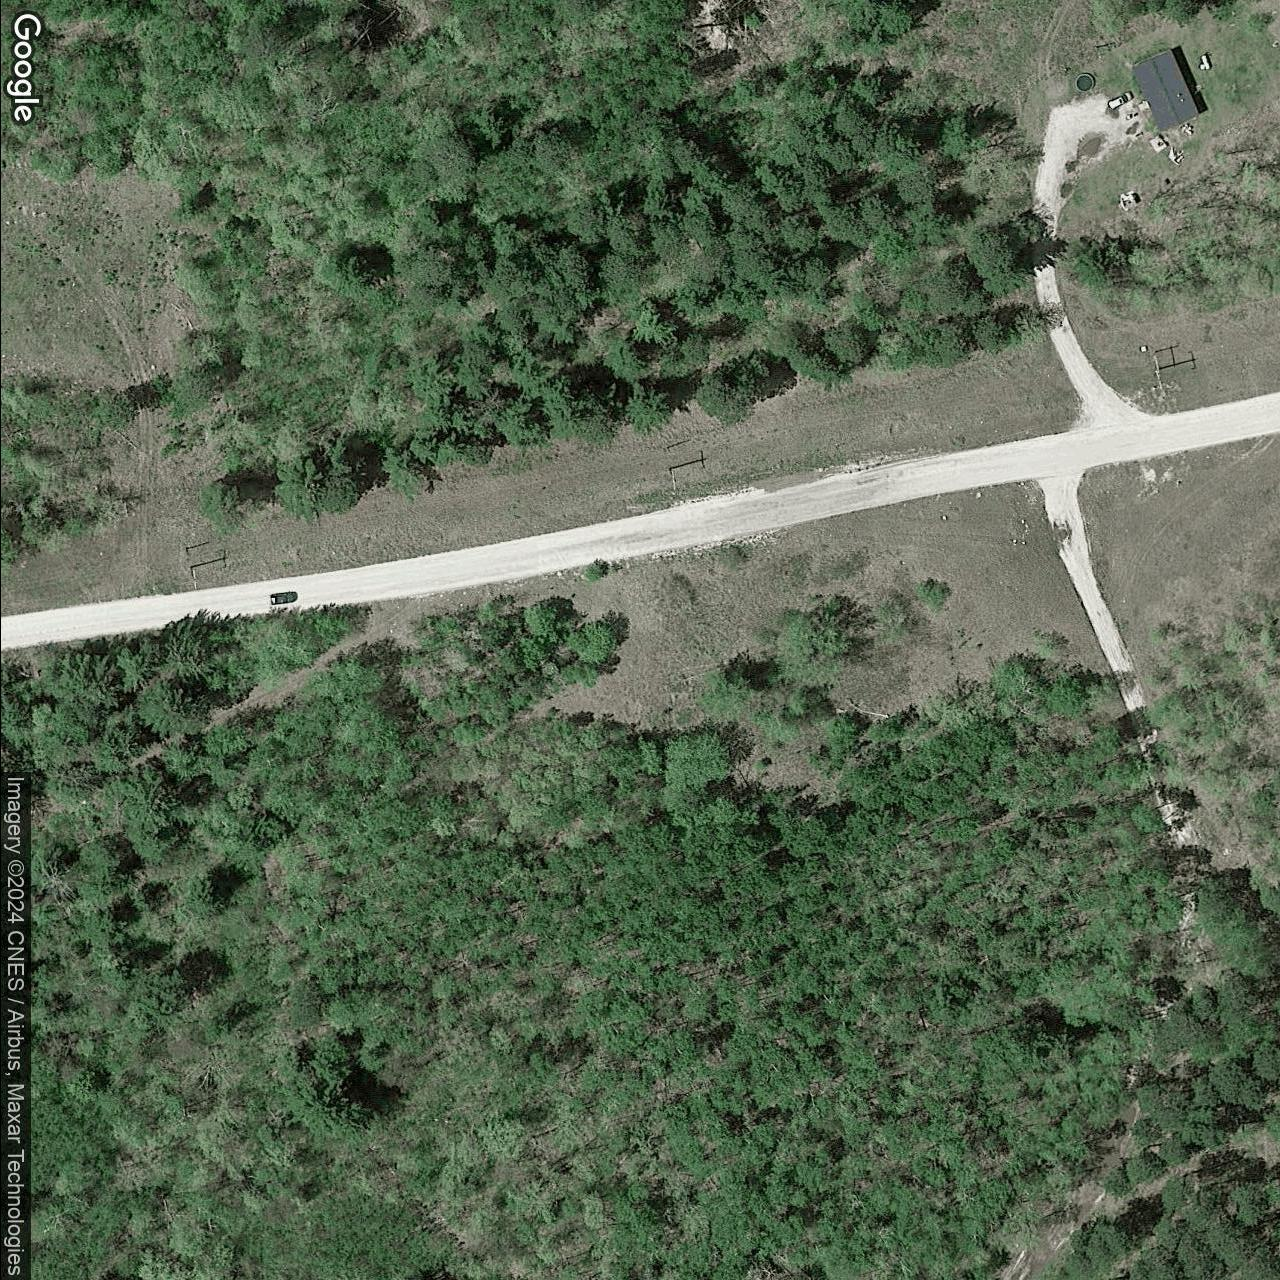House: (1130, 47, 1200, 134)
Propane: (1198, 50, 1214, 74)
